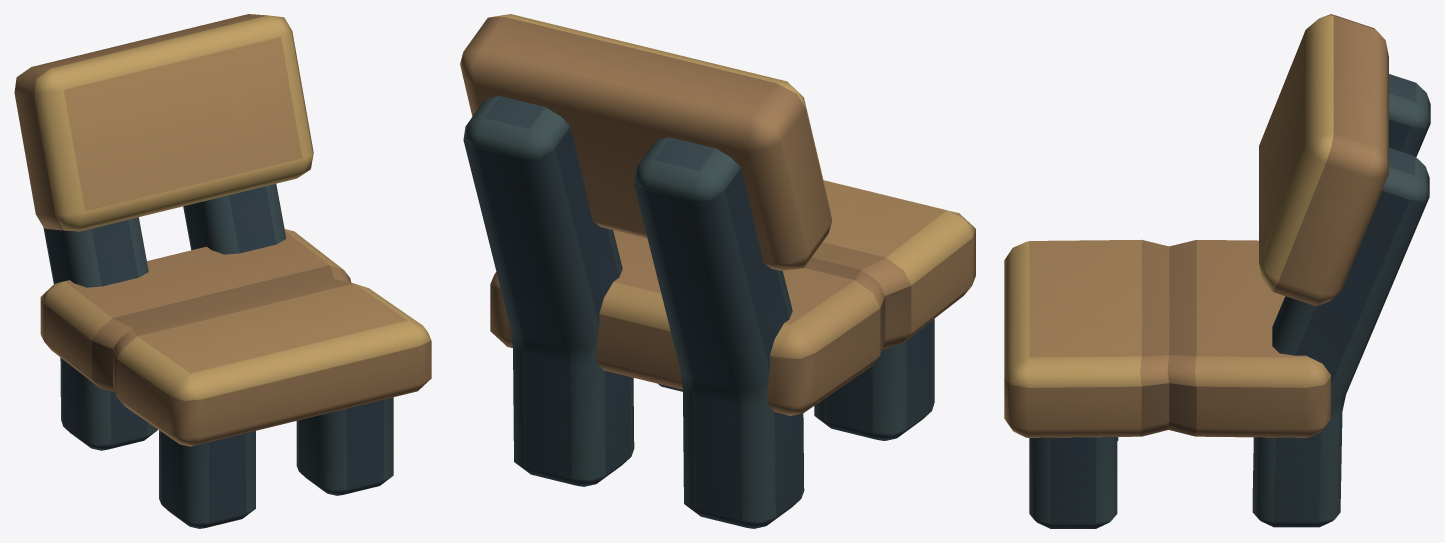
Rendered from chair1_LOD_setup.fbx.
The picture shows the model from 3 angles, left to right: view 1: azimuth 30°, elevation 25°; view 2: azimuth 150°, elevation 25°; view 3: azimuth 270°, elevation 25°; orthographic projection. The views are drawn at different scales.
Visible parts, largest first — view 1: chair1_LOD0; view 2: chair1_LOD0; view 3: chair1_LOD0.
Part boxes in pixels (x1=…): chair1_LOD0: x1=14, y1=14, x2=431, y2=528; chair1_LOD0: x1=460, y1=14, x2=975, y2=528; chair1_LOD0: x1=1004, y1=14, x2=1430, y2=528.
Size of what is drawn, in the model's own units: 54.79 by 74.68 by 70.65.
